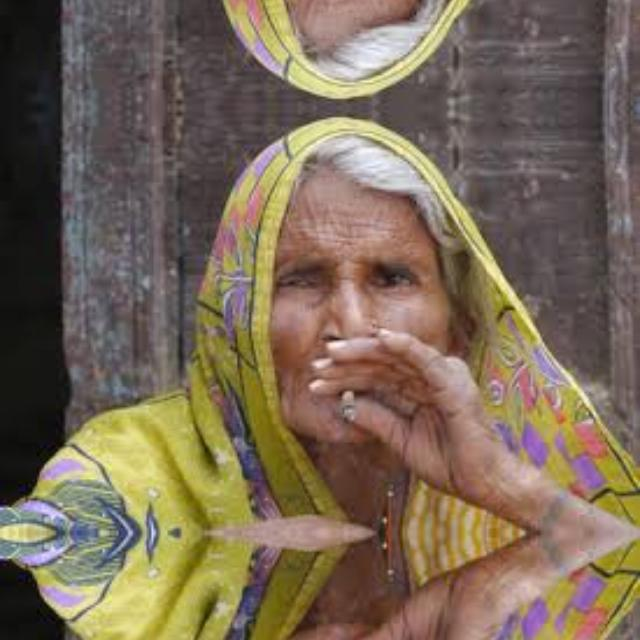person: (126, 107, 538, 533), (125, 0, 538, 107), (125, 533, 538, 640)
